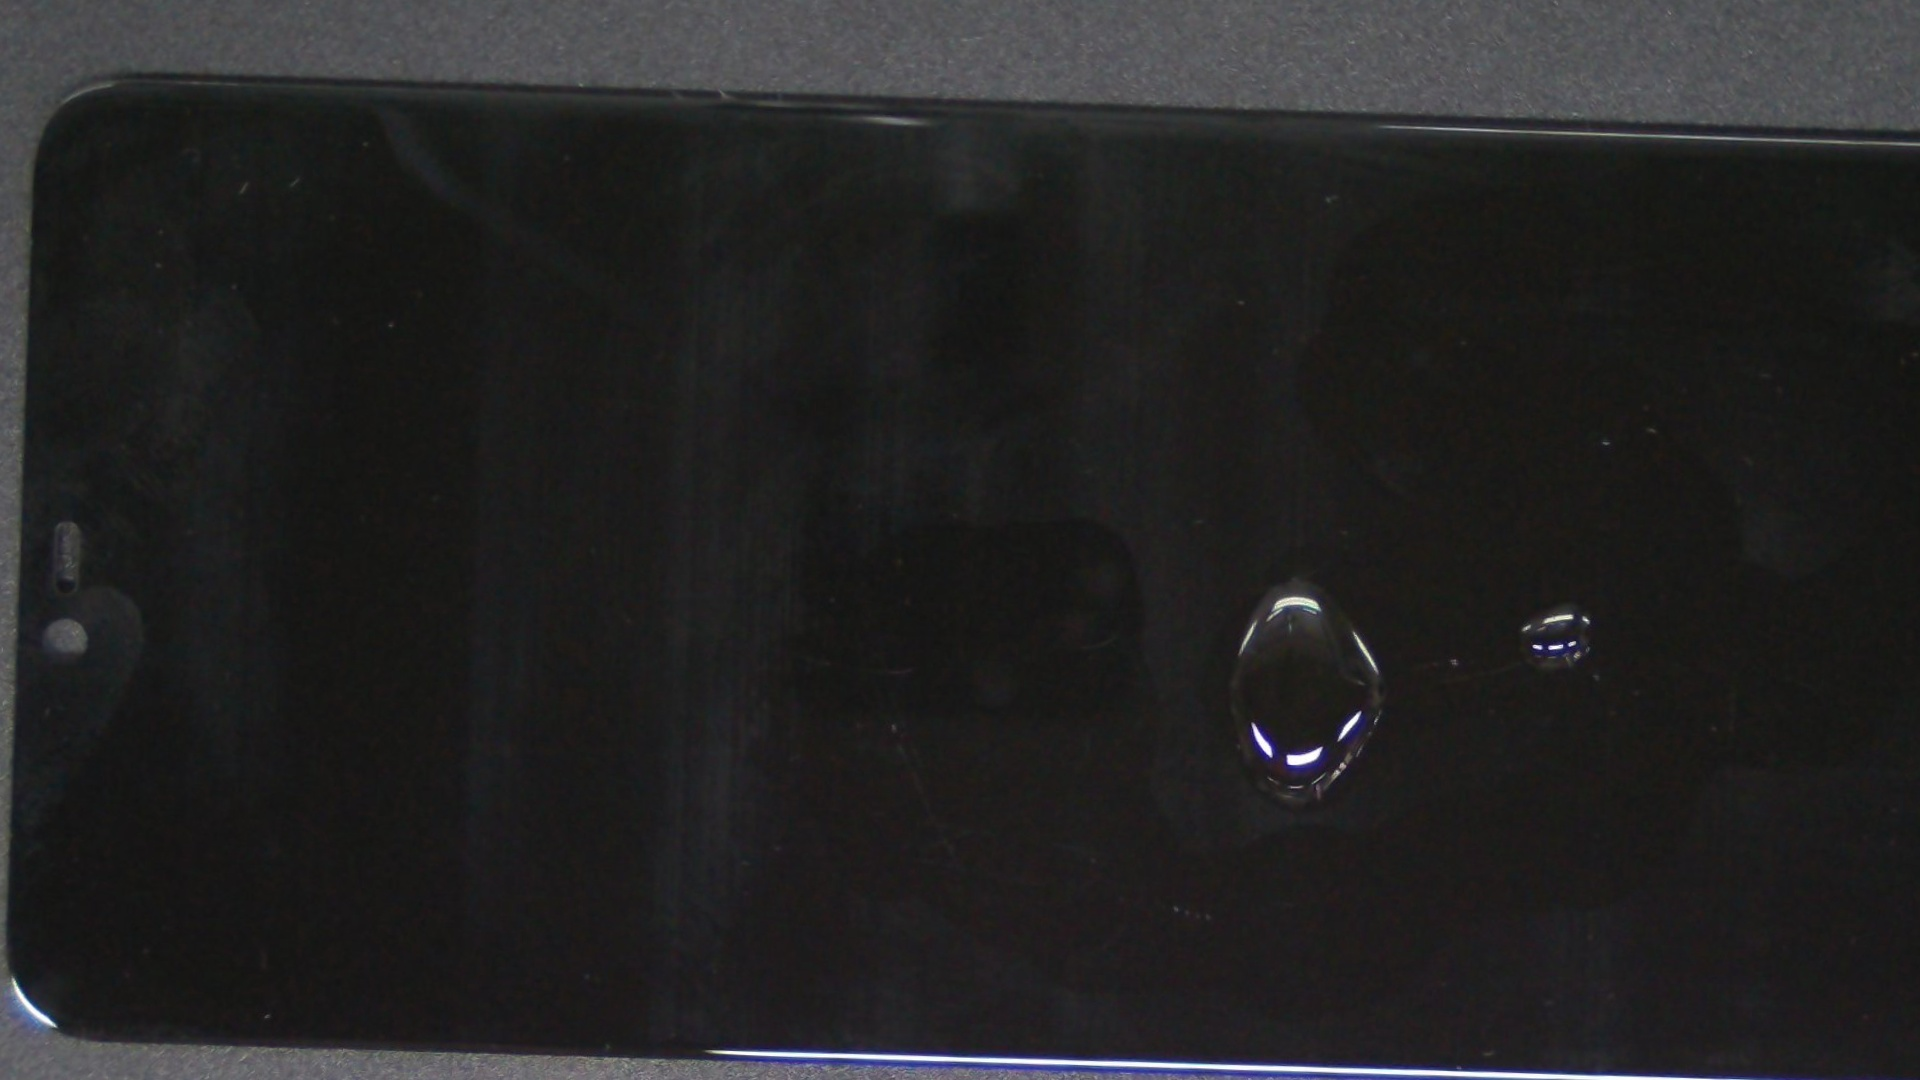oil: (601, 240, 1920, 909), (738, 255, 1920, 942)
